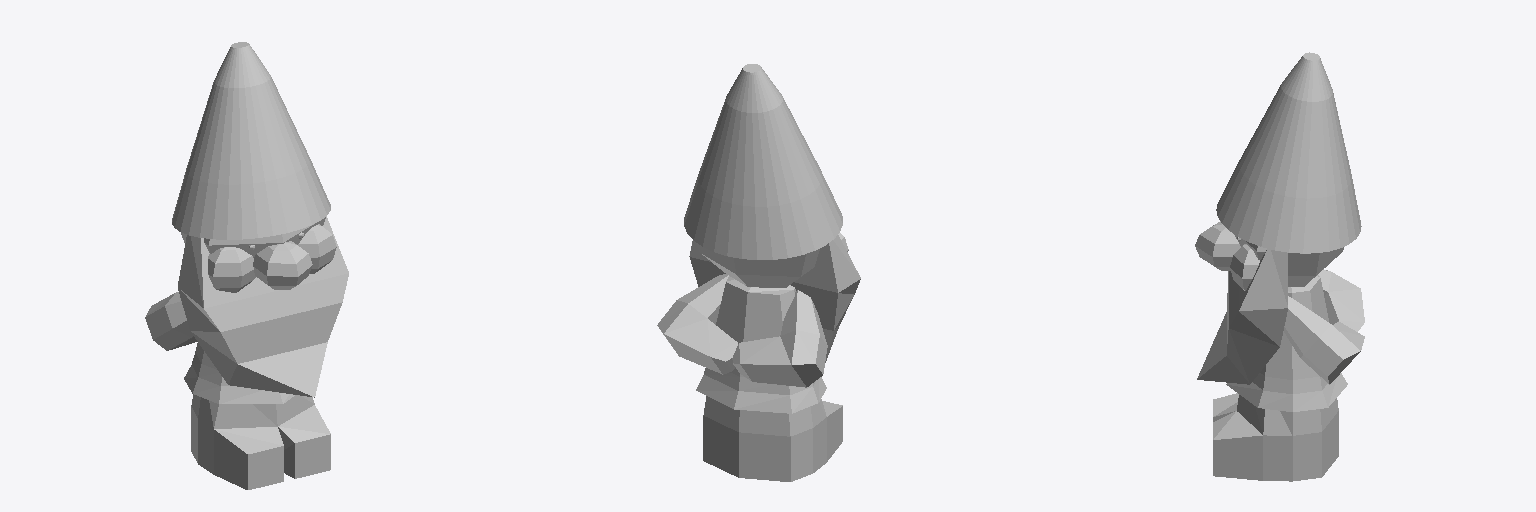
Rendered from Gnome.obj.
The picture shows the model from 3 angles: view 1: azimuth 30°, elevation 25°; view 2: azimuth 150°, elevation 25°; view 3: azimuth 270°, elevation 25°; orthographic projection.
Visible parts, largest first — view 1: Sphere.002; view 2: Sphere.002; view 3: Sphere.002.
Boxes of the visible parts, x1,y1,x2,y2 form: Sphere.002: [145, 42, 348, 489]; Sphere.002: [657, 64, 860, 481]; Sphere.002: [1195, 52, 1364, 481].
Size of the model in its own units: 0.8826 by 2.13 by 0.8209.